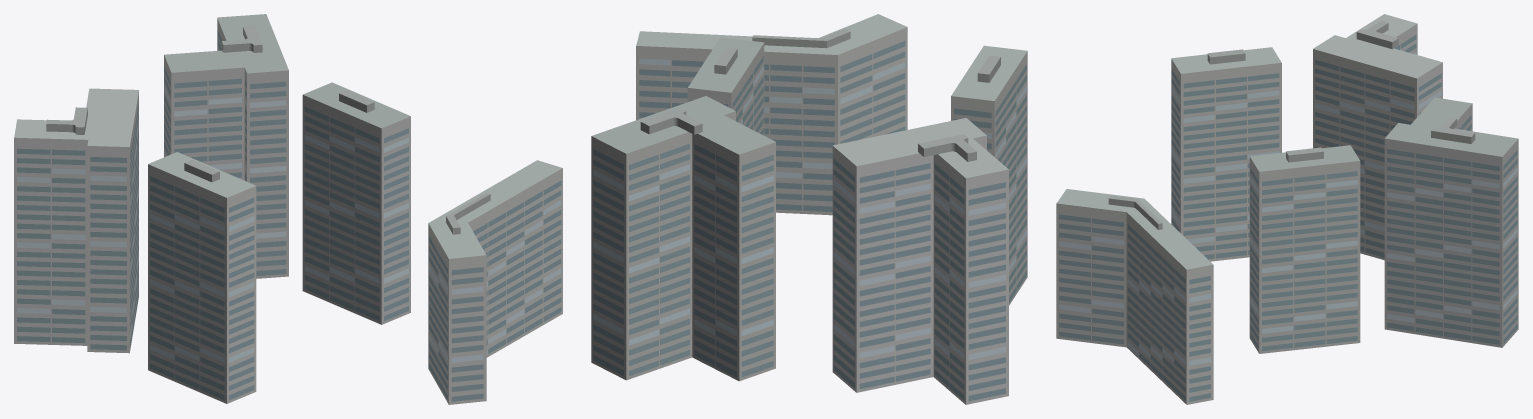
The model's file is apt-a13593901.glb.
3 renders of one model, left to right at view 1: azimuth 30°, elevation 25°; view 2: azimuth 150°, elevation 25°; view 3: azimuth 270°, elevation 25°, orthographic. The views are drawn at different scales.
Visible parts, largest first — view 1: apt-a13593901; view 2: apt-a13593901; view 3: apt-a13593901.
Boxes of the visible parts, left/top/right/bottom form: apt-a13593901: left=14, top=14, right=562, bottom=404; apt-a13593901: left=591, top=14, right=1027, bottom=404; apt-a13593901: left=1056, top=14, right=1518, bottom=404.
Bounding box in the file's own units: 145 × 67 × 142.
